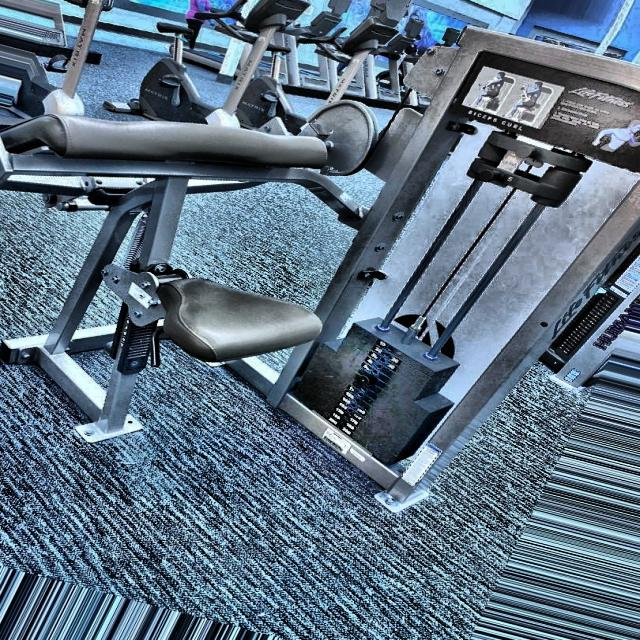bicep_curl_machine: (0, 5, 455, 456), (474, 54, 640, 173)
